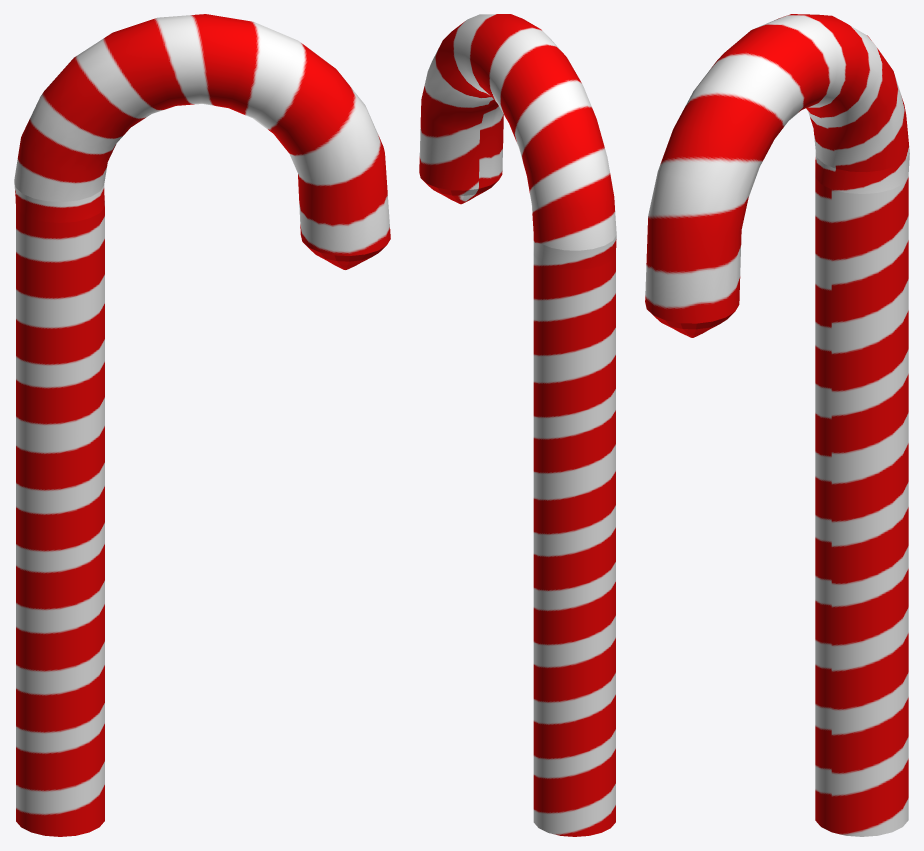
File: bastonT.FBX
The picture shows the model from 3 angles, left to right: view 1: azimuth 30°, elevation 25°; view 2: azimuth 150°, elevation 25°; view 3: azimuth 270°, elevation 25°; orthographic projection. The views are drawn at different scales.
Parts seen in each view (by area): view 1: Cylinder001; view 2: Cylinder001; view 3: Cylinder001.
Boxes of the visible parts, x1,y1,x2,y2 form: Cylinder001: (14, 14, 390, 836); Cylinder001: (419, 14, 616, 836); Cylinder001: (645, 14, 909, 836).
Size of the model in its own units: 43.42 by 118 by 33.6.
1 material, 1 textured.
